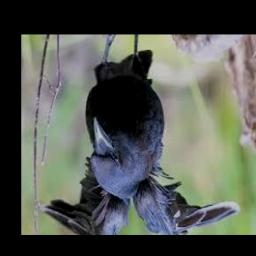Crow: (42, 34, 242, 235)
